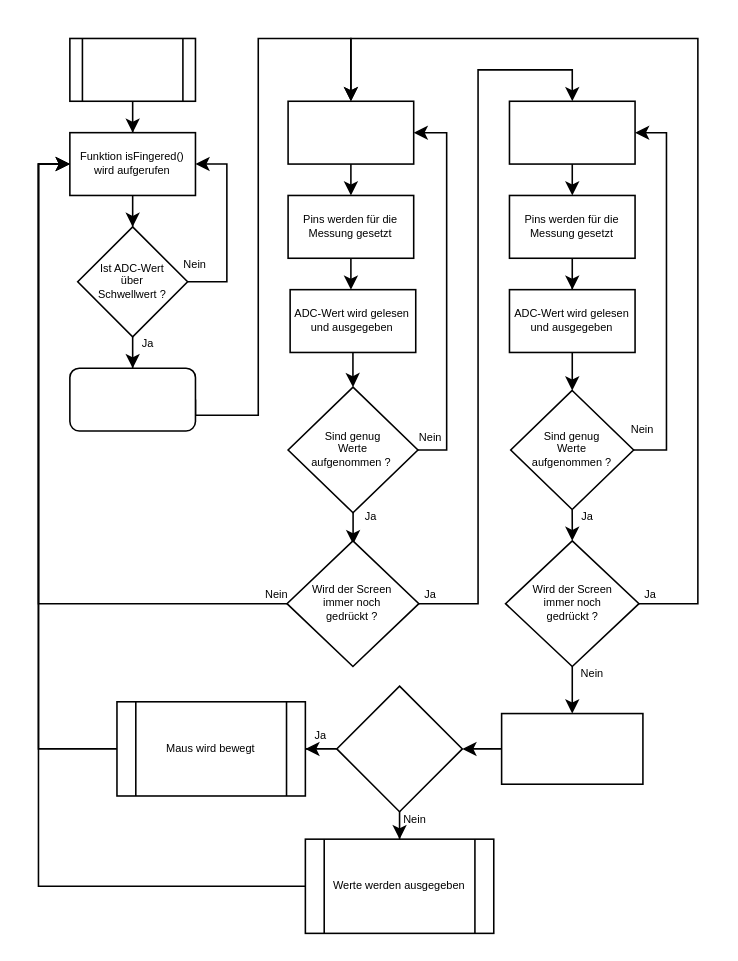
This 738x961 diagram has some shape labels left out. The shapes that lost their labels are listed below. From the top down, each one's centre as x and y in pixels, then its label:
At point 131,69: "Programmstart".
At point 350,132: "Aufruf der Funktion xRead()".
At point 571,132: "Aufruf der Funktion yRead()".
At point 131,399: "Touchscreen wird berührt".
At point 398,748: "Ist die Maus aktiviert ?".
At point 571,748: "Aus Werten wird der Median gebildet".
